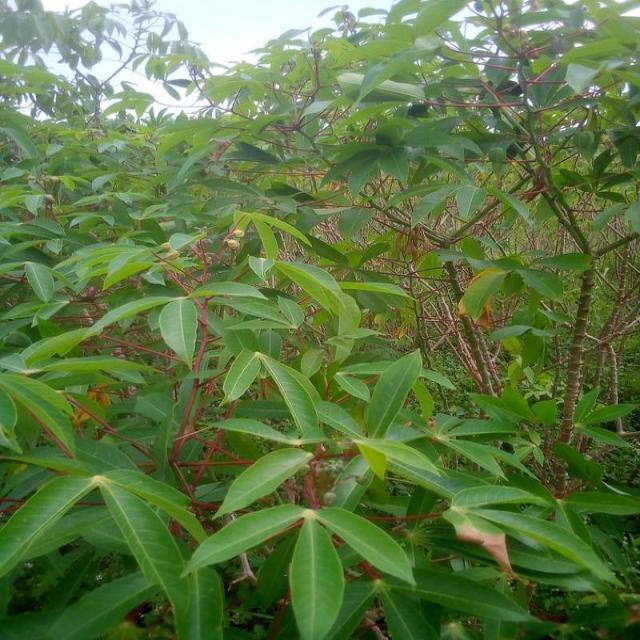cassava leaf: (0, 1, 638, 638), (288, 512, 345, 639)
